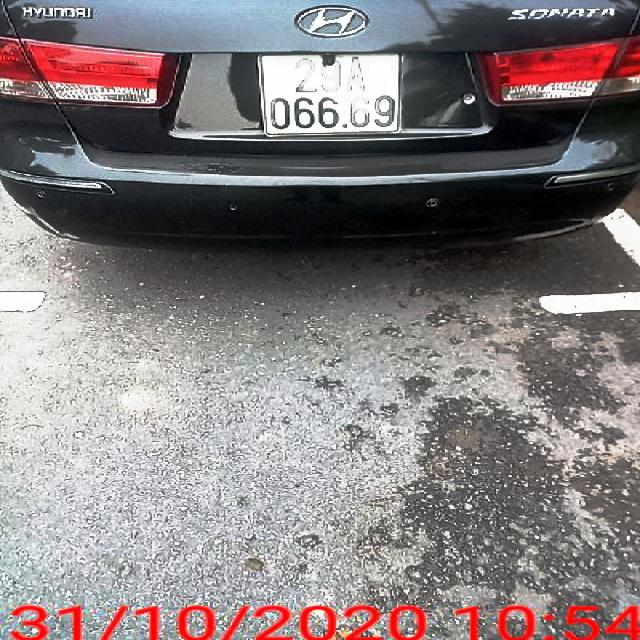license_plate: (259, 53, 402, 136)
